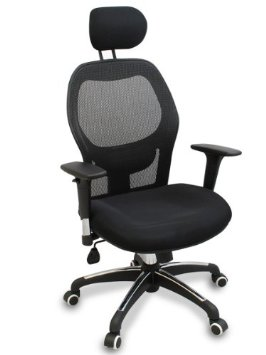chairs: (59, 3, 247, 350)
